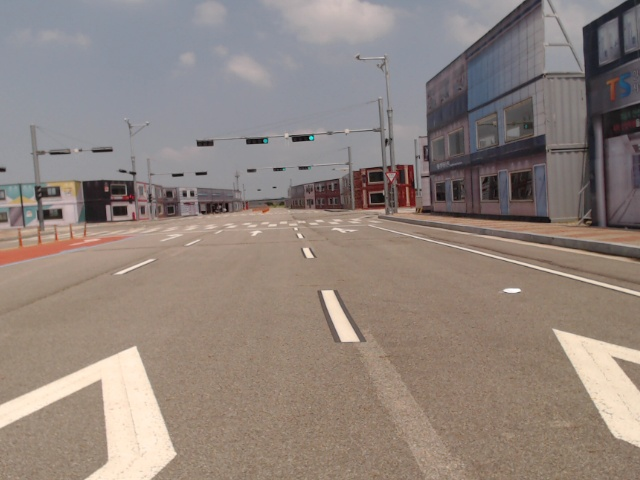straight_green_4: (247, 137, 268, 144), (294, 135, 314, 141), (297, 166, 312, 171), (273, 166, 285, 172)
